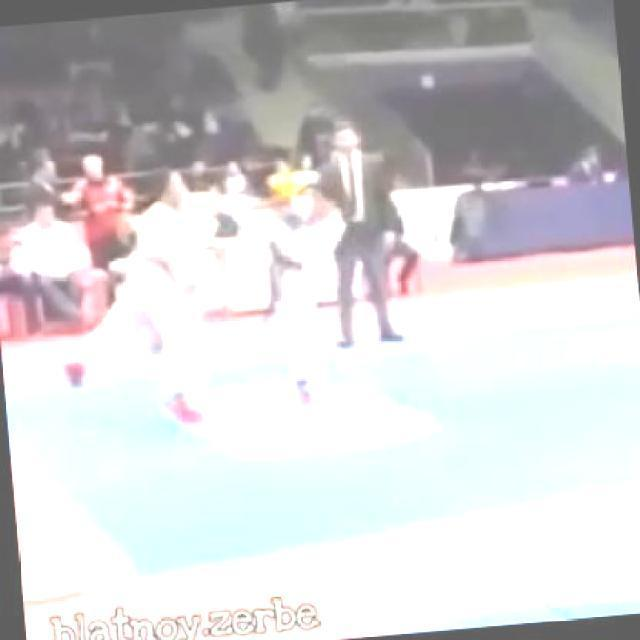fight: (82, 156, 346, 427)
